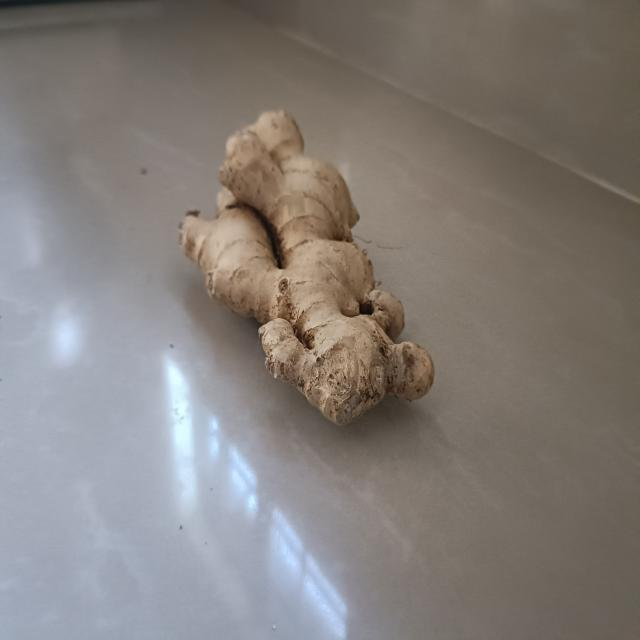ginger: (176, 103, 441, 433)
